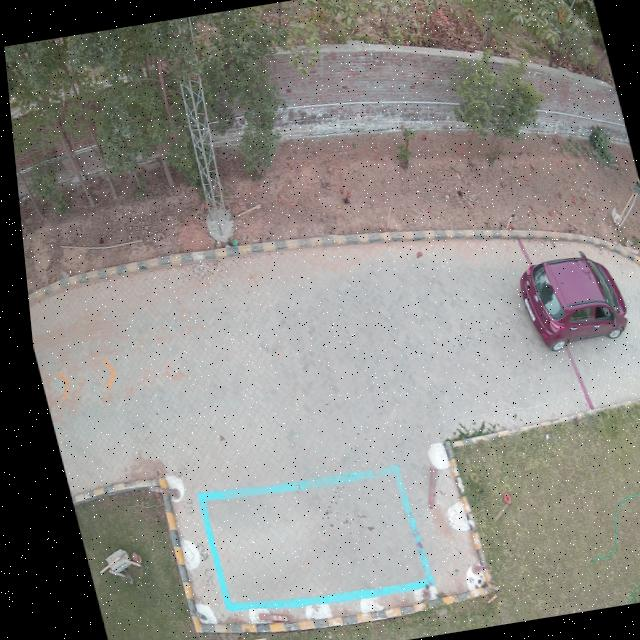car: (514, 252, 622, 350)
